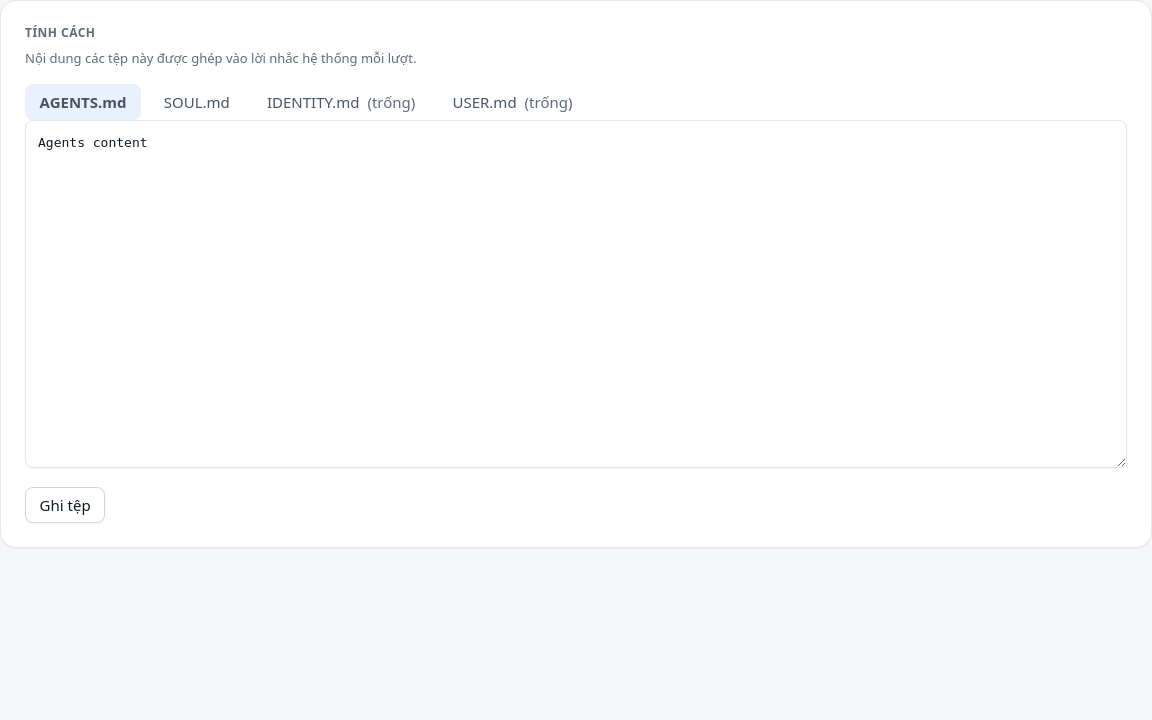
Test: PersonaSection › switches to a different file when its tab is clicked
Expected: the text box showing "Agents content" is shown, [25,120,1127,468]
Click the tab "SOUL.md": coordinates (197, 102) [149,84,244,120]
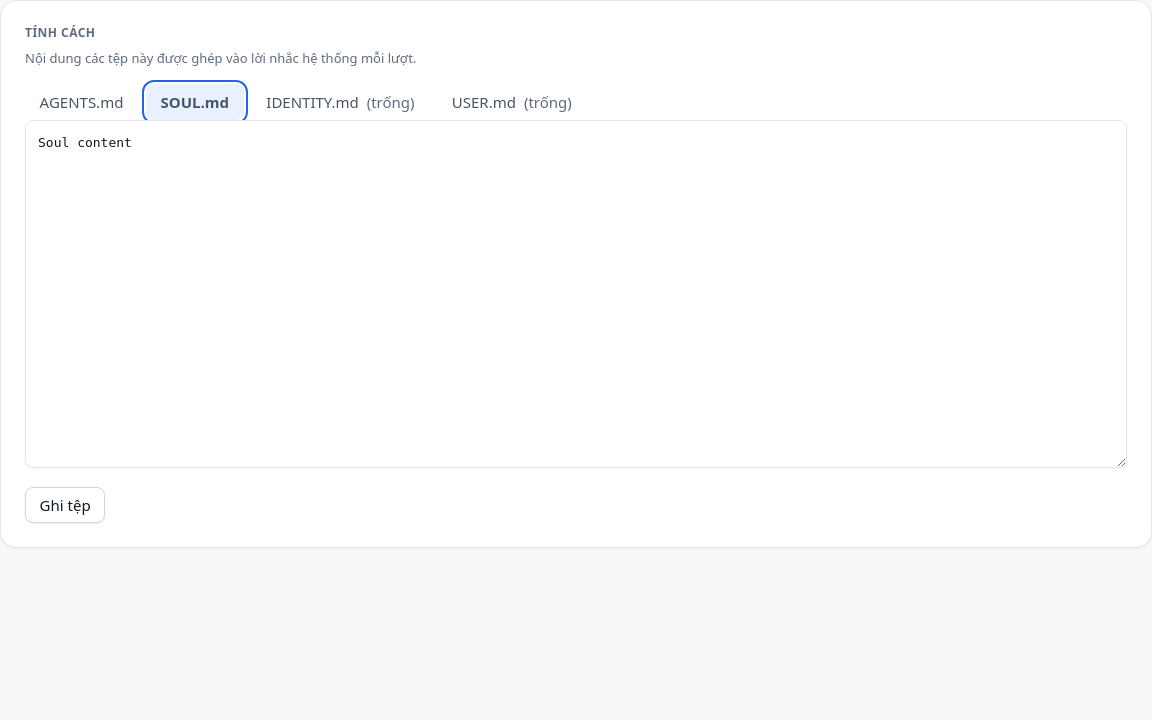
Result: the text box showing "Soul content" is shown at [25,120,1127,468]
